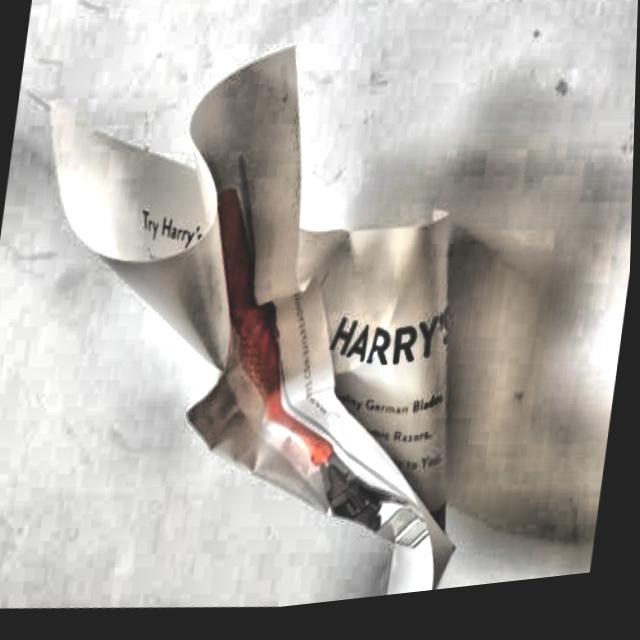Paper: (0, 0, 550, 640)
